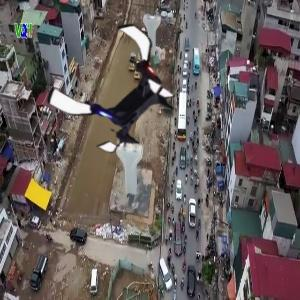drone: (55, 23, 186, 154)
